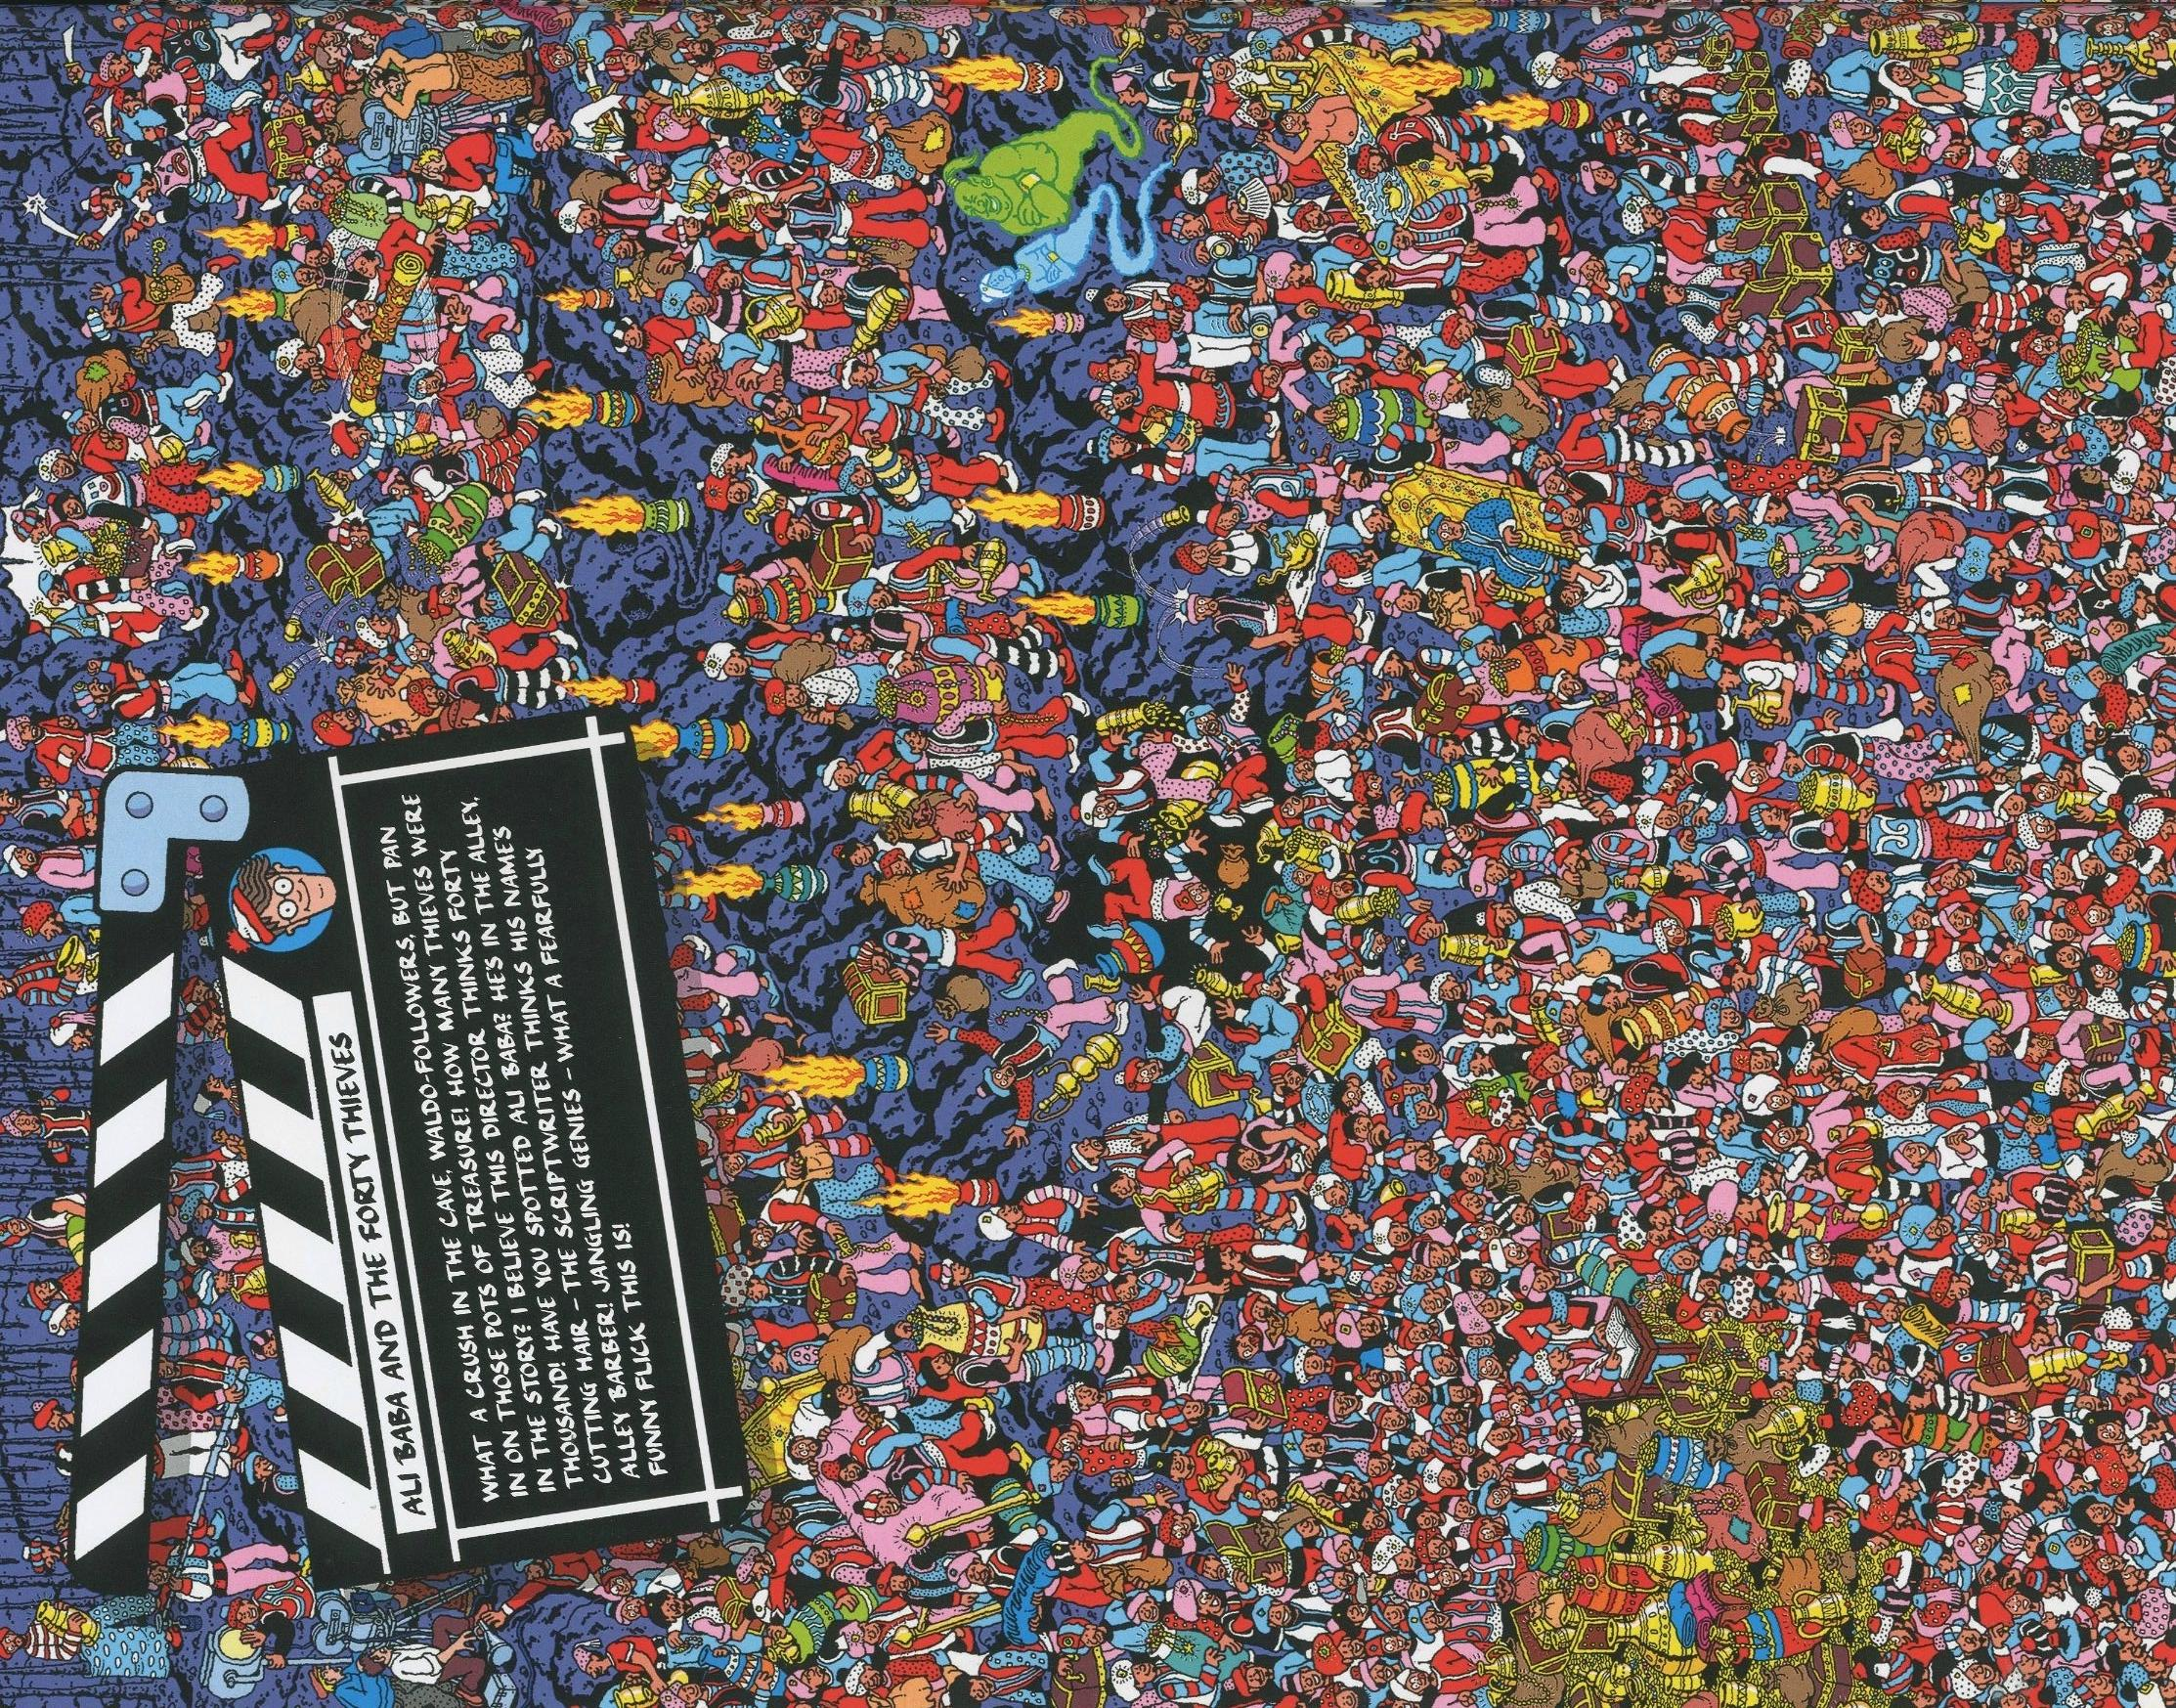waldos: (217, 851, 341, 961)
